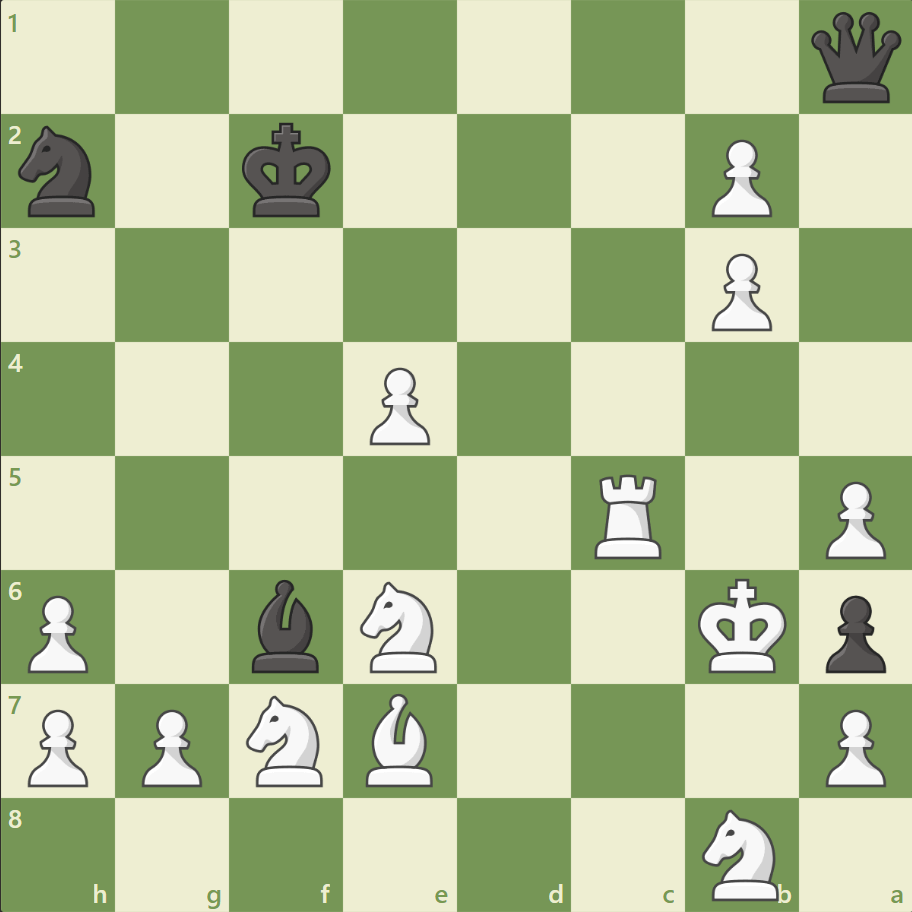B: (358, 687, 442, 790)
K: (692, 571, 792, 679)
N: (351, 575, 449, 677), (238, 688, 335, 791), (692, 802, 789, 904)
P: (133, 700, 208, 791), (20, 700, 95, 791), (20, 586, 95, 677), (701, 246, 776, 337), (701, 132, 776, 223), (815, 700, 889, 791), (815, 473, 889, 564), (361, 359, 435, 450)
R: (587, 466, 670, 563)
b: (244, 574, 328, 676)
k: (238, 117, 338, 225)
n: (11, 121, 108, 223)
p: (815, 586, 889, 677)
q: (805, 9, 904, 108)
